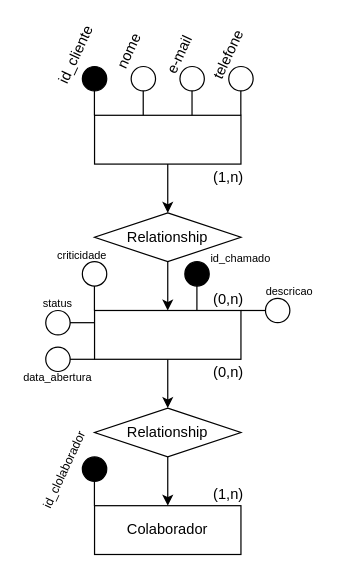
Image size: 346x576. Some labels were removed from this diagram. The shapes that lost their labels are listed below. From the top down, each one's box as (x1, y1, x2, y2) in pixels, then its label:
(93, 114, 241, 164): Cliente
(93, 309, 241, 359): Chamado
